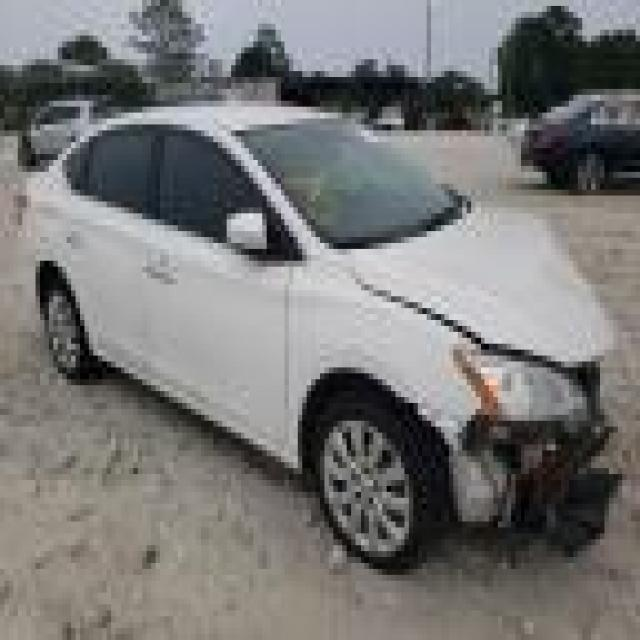severe: (426, 255, 640, 564)
